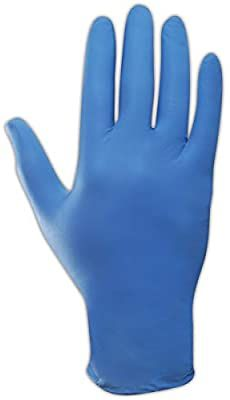gloves: (4, 4, 221, 390)
